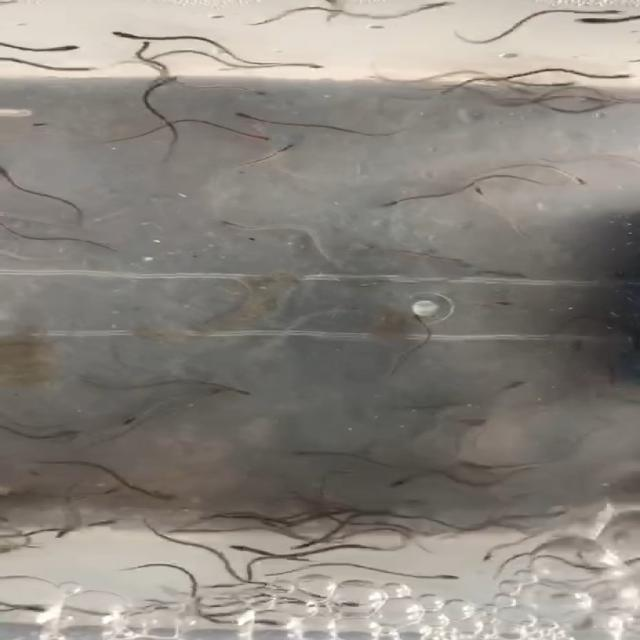active_glass_eel: (228, 104, 286, 120), (482, 264, 532, 281), (213, 381, 260, 398), (13, 601, 55, 620), (465, 180, 506, 199), (204, 214, 246, 232), (263, 138, 310, 154), (497, 374, 531, 396), (376, 199, 428, 213), (50, 521, 86, 541), (425, 568, 464, 586), (116, 406, 149, 426), (0, 166, 40, 182), (132, 482, 172, 498), (316, 596, 360, 610), (406, 310, 440, 328), (262, 615, 296, 633), (386, 470, 414, 491), (104, 27, 146, 41), (475, 547, 509, 564), (53, 62, 100, 74), (486, 293, 517, 311), (241, 83, 278, 98), (198, 597, 232, 613), (293, 538, 329, 553), (576, 14, 612, 29), (538, 77, 582, 89), (225, 540, 260, 555), (152, 72, 179, 91), (126, 39, 156, 56), (564, 175, 600, 188), (255, 131, 284, 147), (584, 65, 628, 75), (55, 42, 82, 58), (296, 61, 335, 72), (271, 566, 307, 577), (28, 121, 61, 132), (429, 0, 456, 12)
